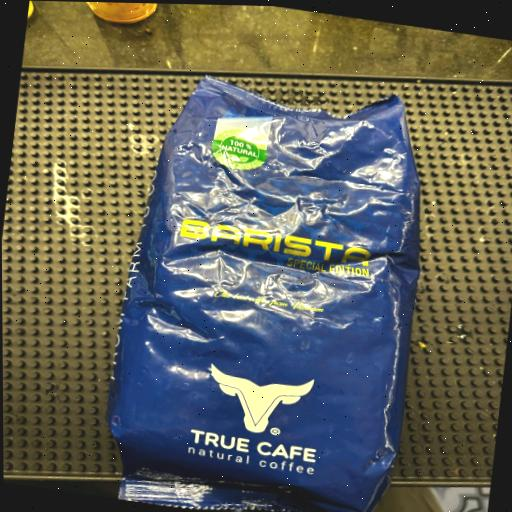cafe_hat: (107, 77, 420, 512)
